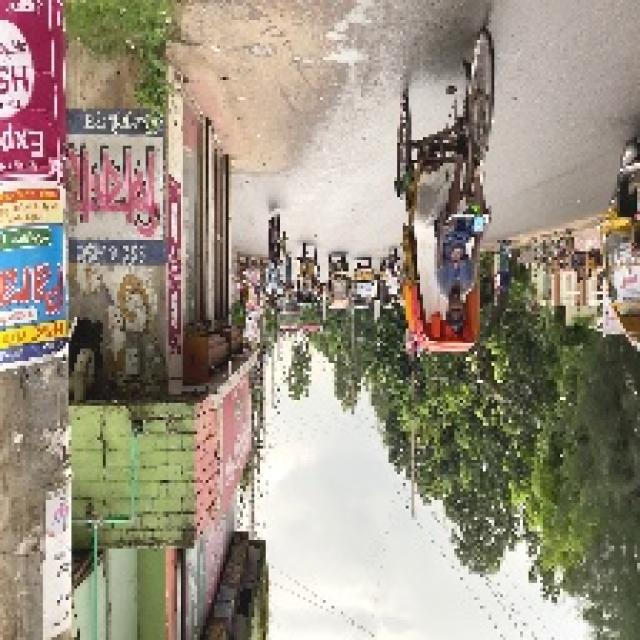bike: (387, 244, 401, 283)
rickshaw: (403, 42, 500, 369), (295, 243, 316, 308), (329, 253, 349, 307), (353, 259, 373, 310)
